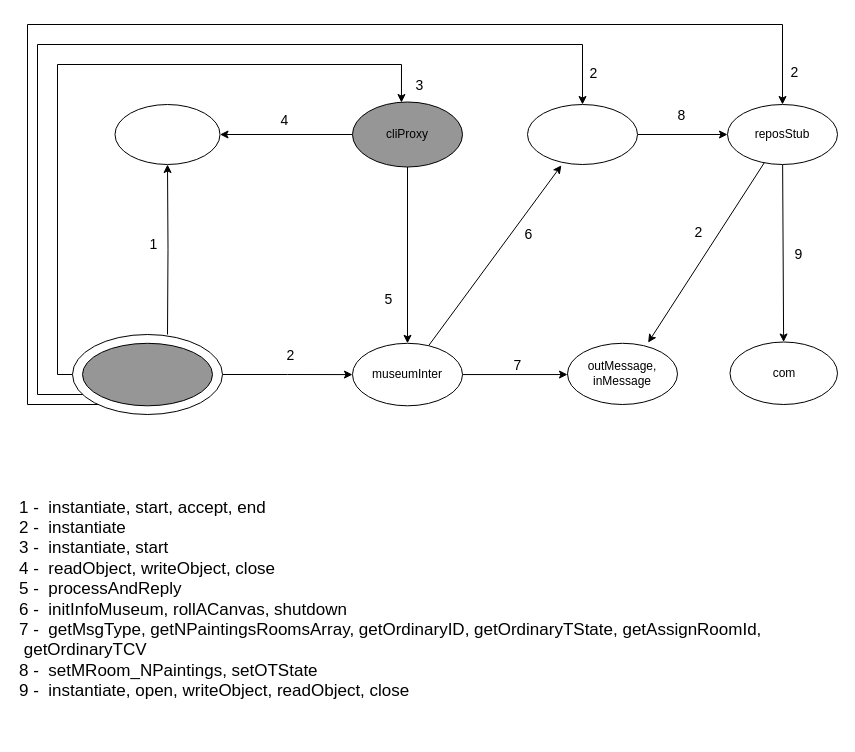
Some shapes in this 855 by 752 pixel diagram are drawn without their labels. The centre of each missing label's shape, as x and y in pixels:
"museum" belongs at (582,134).
"scon" belongs at (167,134).
"ServerHeistMuseum Museum" belongs at (147,374).
